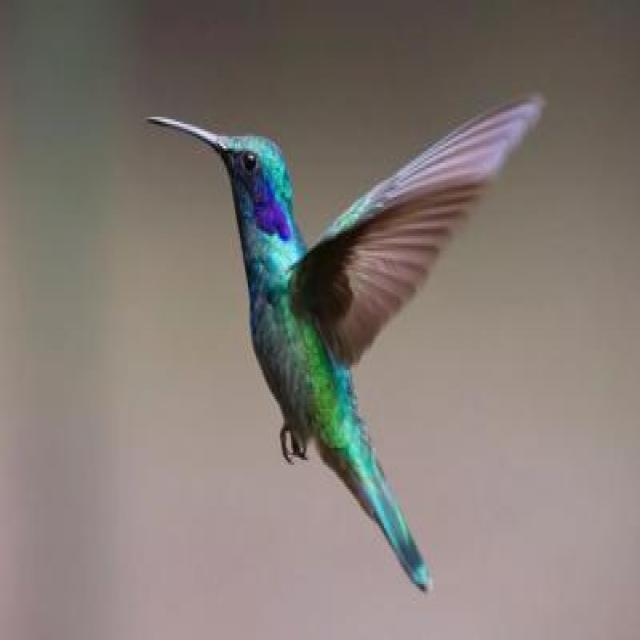birds: (140, 69, 554, 603)
